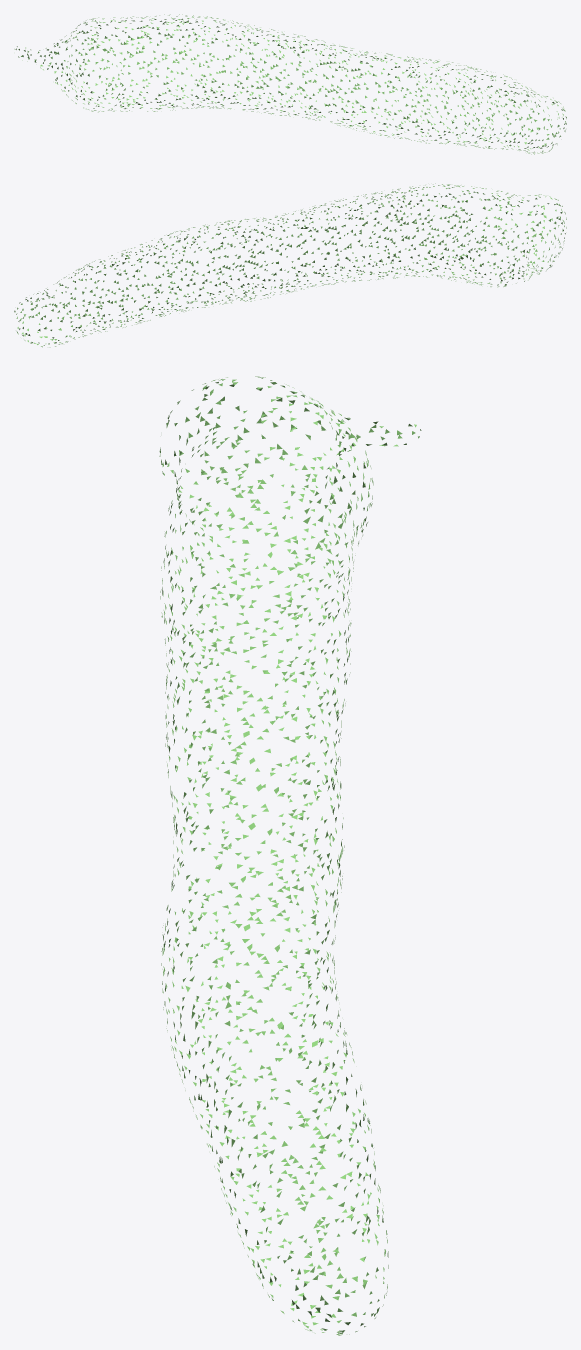
Rendered from morph_015.glb.
3 renders of one model, top to bottom at view 1: azimuth 30°, elevation 25°; view 2: azimuth 150°, elevation 25°; view 3: azimuth 270°, elevation 25°, orthographic. The views are drawn at different scales.
Bounding box in the file's own units: 134 × 60.05 × 28.85.
